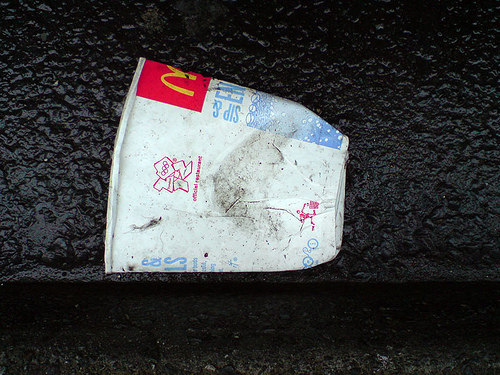litter: (102, 57, 350, 274)
